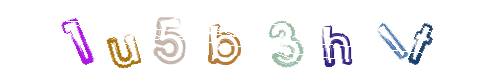1: (40, 0, 120, 80)
3: (203, 0, 283, 80)
5: (138, 0, 218, 80)
B: (195, 0, 275, 80)
H: (210, 0, 290, 80)
L: (332, 0, 412, 80)
T: (341, 0, 421, 80)
U: (132, 0, 212, 80)
